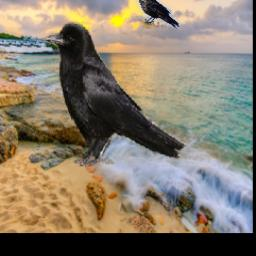Crow: (42, 21, 186, 166), (130, 0, 180, 29)
